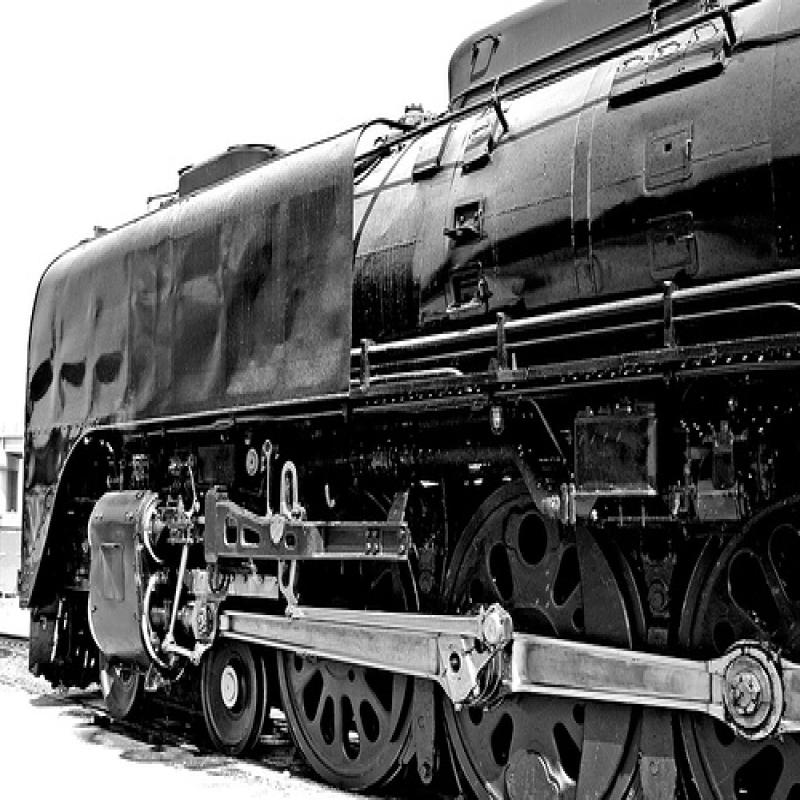train: (17, 1, 798, 799)
